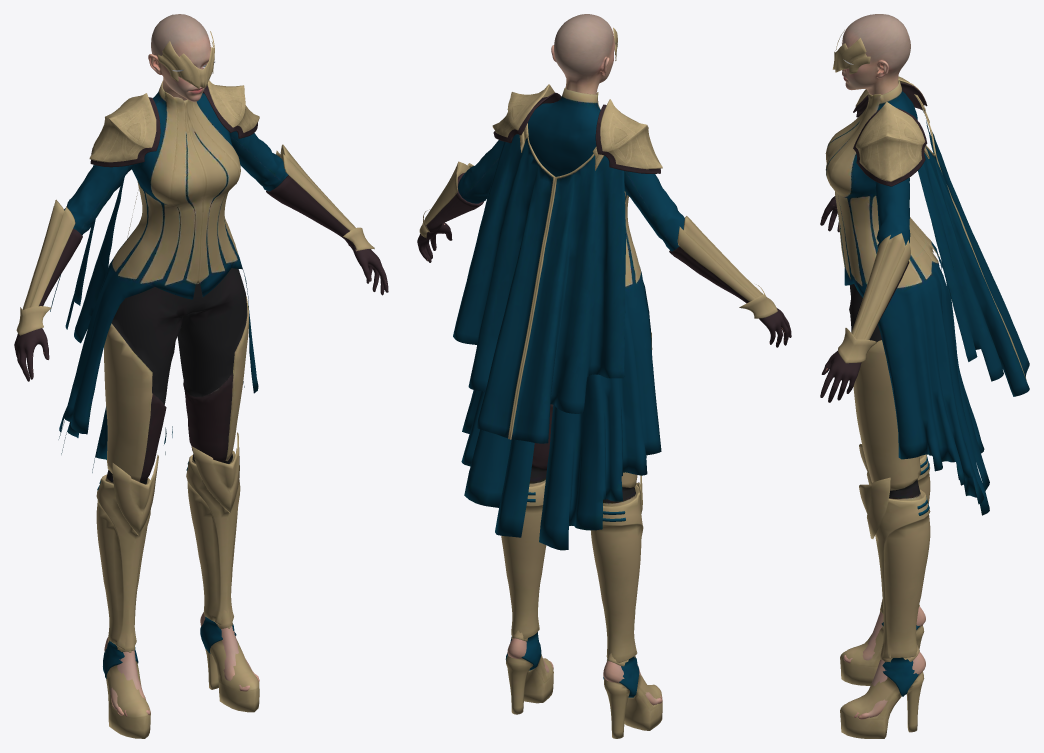
The picture shows the model from 3 angles, left to right: view 1: azimuth 30°, elevation 25°; view 2: azimuth 150°, elevation 25°; view 3: azimuth 270°, elevation 25°; orthographic projection.
Visible parts, largest first — view 1: GF_0137_T03_Body, GF_0137_T03_Pants, GF_0137_T03_Boots, GF_0137_T03_Glove, GF_0137_T03_Shoulder, GF_BaseHead, GF_0137_T03_Cape, GF_0137_T03_Helmet; view 2: GF_0137_T03_Cape, GF_0137_T03_Body, GF_0137_T03_Boots, GF_0137_T03_Glove, GF_0137_T03_Shoulder, GF_BaseHead, GF_0137_T03_Pants; view 3: GF_0137_T03_Body, GF_0137_T03_Boots, GF_0137_T03_Cape, GF_0137_T03_Pants, GF_0137_T03_Glove, GF_0137_T03_Shoulder, GF_BaseHead, GF_0137_T03_Helmet.
Part boxes in pixels (box(x1,y1,x2,y2)): GF_0137_T03_Body: box(32, 80, 386, 472); GF_0137_T03_Pants: box(104, 268, 259, 716); GF_0137_T03_Boots: box(96, 432, 259, 738); GF_0137_T03_Glove: box(14, 144, 388, 381); GF_0137_T03_Shoulder: box(89, 80, 259, 167); GF_BaseHead: box(148, 14, 214, 101); GF_0137_T03_Cape: box(50, 165, 138, 343); GF_0137_T03_Helmet: box(158, 31, 214, 88); GF_0137_T03_Cape: box(453, 123, 625, 443); GF_0137_T03_Body: box(427, 87, 785, 550); GF_0137_T03_Boots: box(501, 475, 662, 738); GF_0137_T03_Glove: box(417, 161, 791, 347); GF_0137_T03_Shoulder: box(492, 84, 662, 173); GF_BaseHead: box(551, 14, 615, 94); GF_0137_T03_Pants: box(507, 332, 662, 705); GF_0137_T03_Body: box(825, 80, 989, 515); GF_0137_T03_Boots: box(840, 444, 930, 738); GF_0137_T03_Cape: box(914, 94, 1029, 396); GF_0137_T03_Pants: box(843, 284, 925, 719); GF_0137_T03_Glove: box(820, 196, 910, 402); GF_0137_T03_Shoulder: box(853, 76, 927, 186); GF_BaseHead: box(842, 14, 910, 94); GF_0137_T03_Helmet: box(832, 30, 870, 74).
Bounding box in the file's own units: 1.03 × 1.87 × 0.5147.
10 materials, 9 textured.
